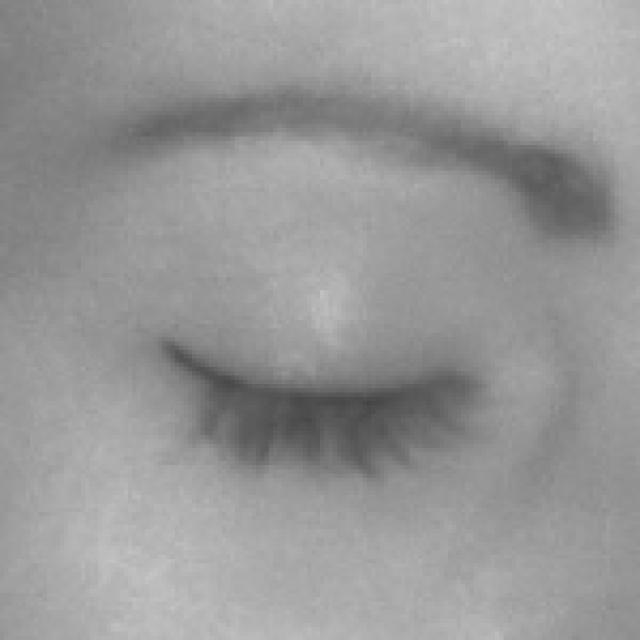close: (30, 27, 637, 585)
